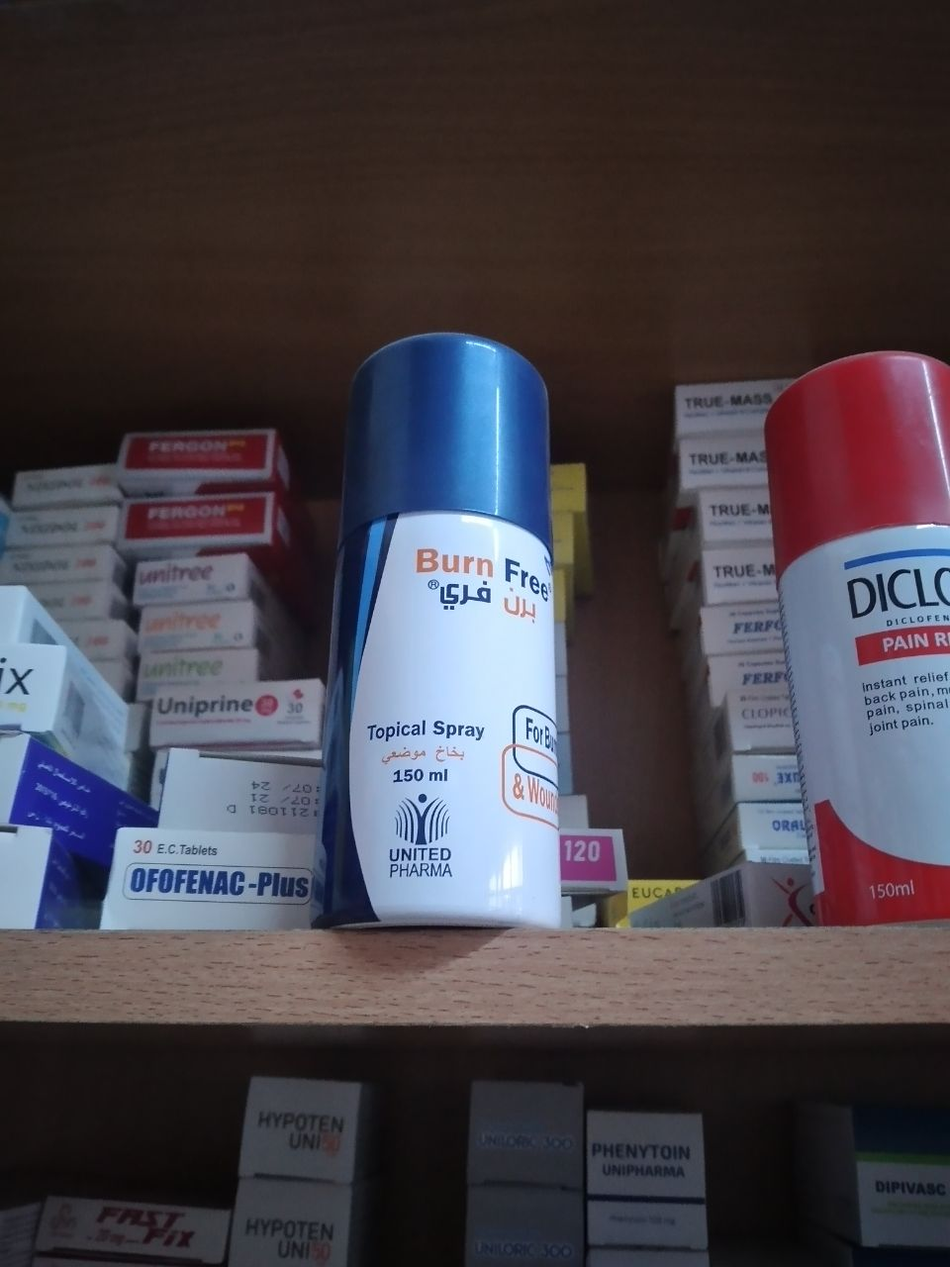Medicine: (290, 313, 577, 940), (755, 333, 950, 917), (66, 812, 323, 940), (205, 1079, 373, 1267), (581, 1095, 749, 1267), (459, 1079, 610, 1267), (0, 1171, 228, 1267), (835, 1095, 950, 1267), (119, 409, 294, 505), (129, 673, 327, 756), (132, 597, 307, 676), (699, 650, 815, 759), (122, 551, 297, 620), (109, 488, 284, 554), (696, 795, 835, 878), (680, 383, 778, 498), (719, 752, 838, 815), (689, 614, 785, 673), (689, 564, 798, 604), (689, 502, 772, 551)
